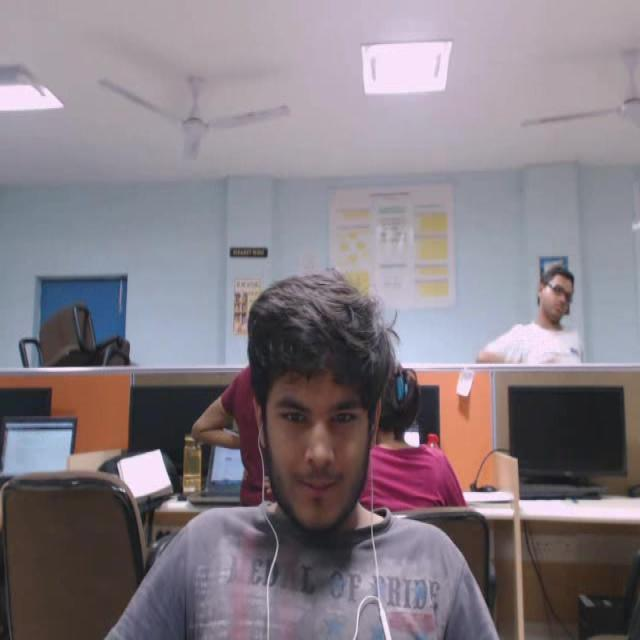Engaged: (223, 237, 424, 570)
